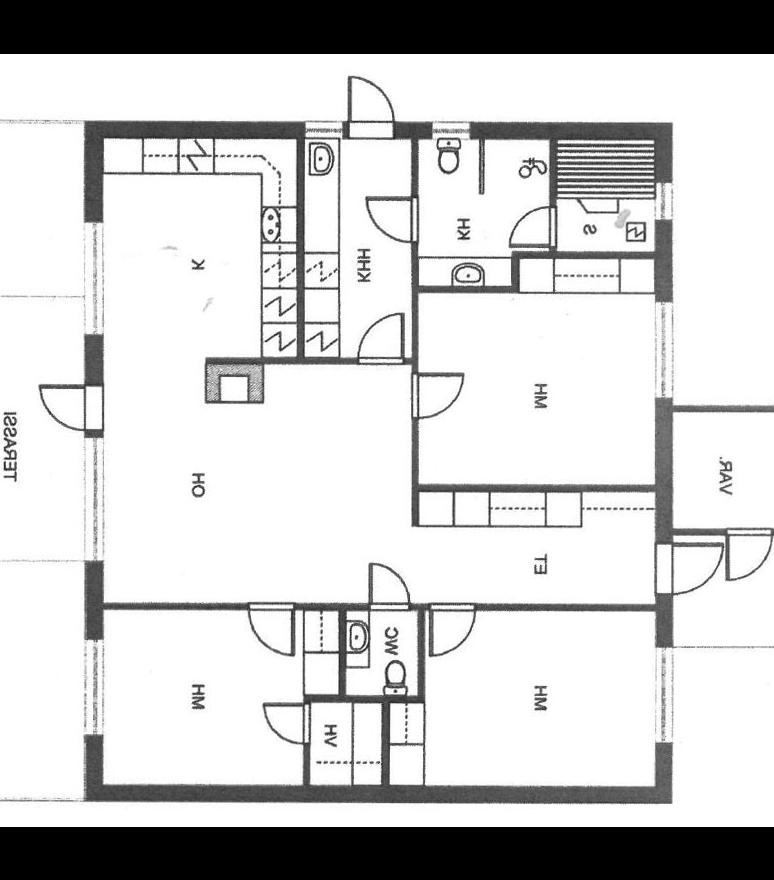door: (654, 536, 725, 596), (344, 70, 398, 145), (404, 365, 469, 423), (36, 380, 106, 433), (354, 306, 408, 372), (363, 192, 423, 246), (246, 599, 300, 658), (723, 523, 774, 585), (426, 598, 476, 658), (365, 559, 414, 615), (260, 697, 313, 748), (508, 200, 556, 249)
window: (78, 428, 108, 568), (79, 208, 110, 340), (78, 624, 111, 744), (648, 637, 679, 753), (650, 293, 678, 402), (422, 111, 476, 142), (650, 171, 678, 226), (296, 115, 348, 140)
